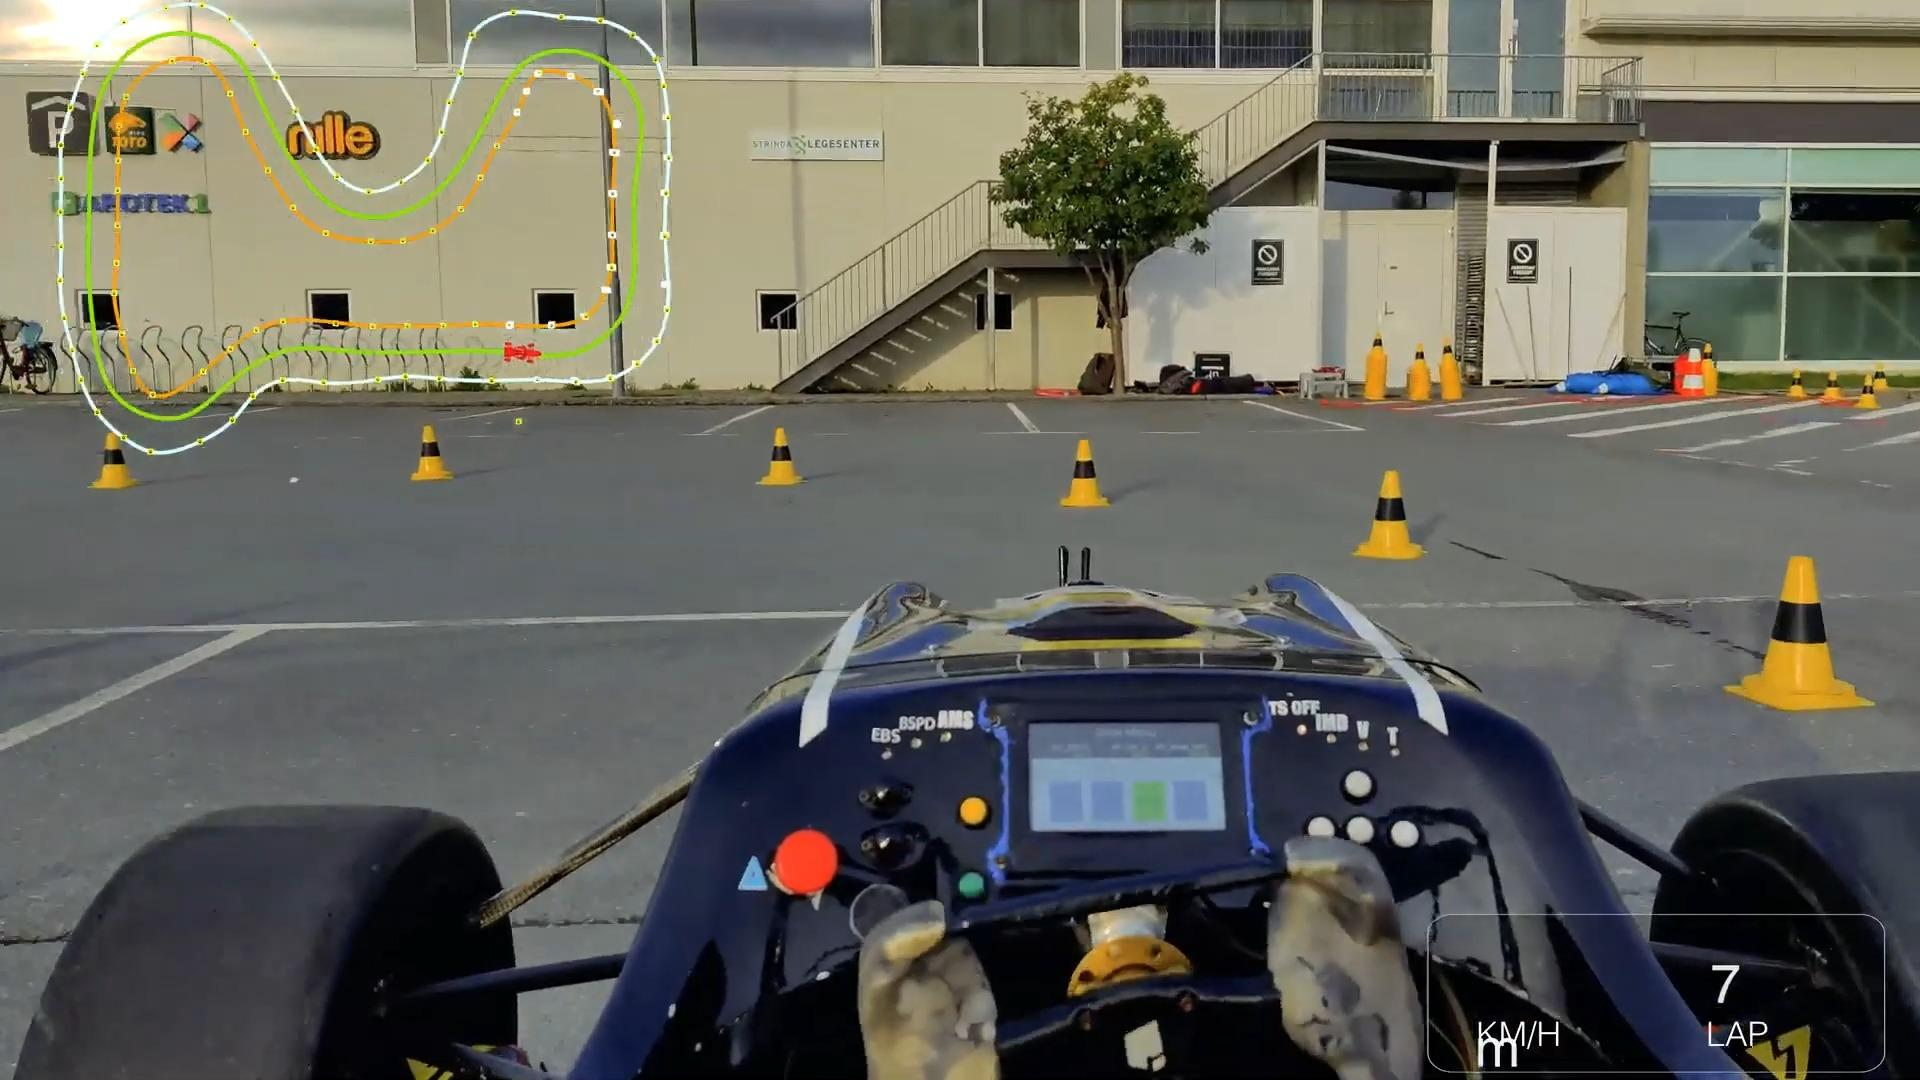large_orange_cone: (1680, 343, 1706, 402)
yellow_cone: (1724, 551, 1879, 717), (1344, 465, 1433, 570), (1052, 435, 1117, 513), (752, 425, 806, 493), (405, 421, 458, 485), (86, 430, 138, 492), (1857, 373, 1875, 413), (1824, 367, 1844, 401), (1788, 365, 1805, 401), (1874, 361, 1890, 392)
